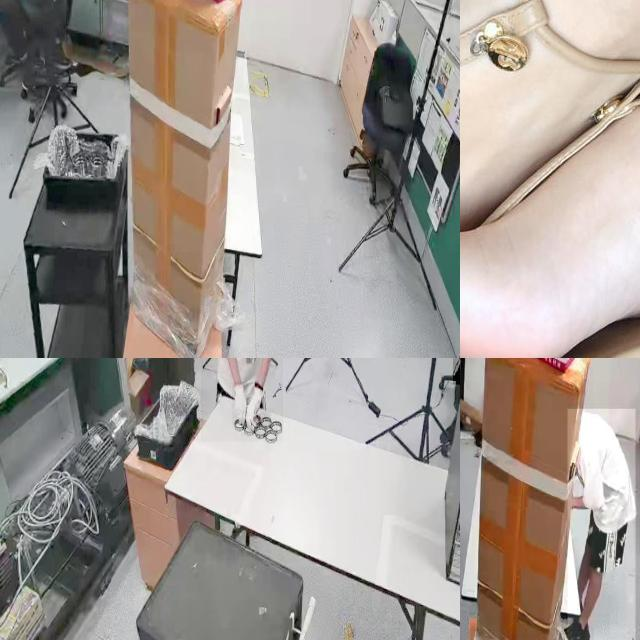Barefoots: (460, 120, 640, 358), (460, 0, 640, 193)
hand_glove: (248, 377, 264, 429), (232, 382, 248, 425)
person: (567, 408, 636, 640), (200, 358, 283, 442), (0, 0, 66, 86)
shoes: (562, 612, 593, 640)
